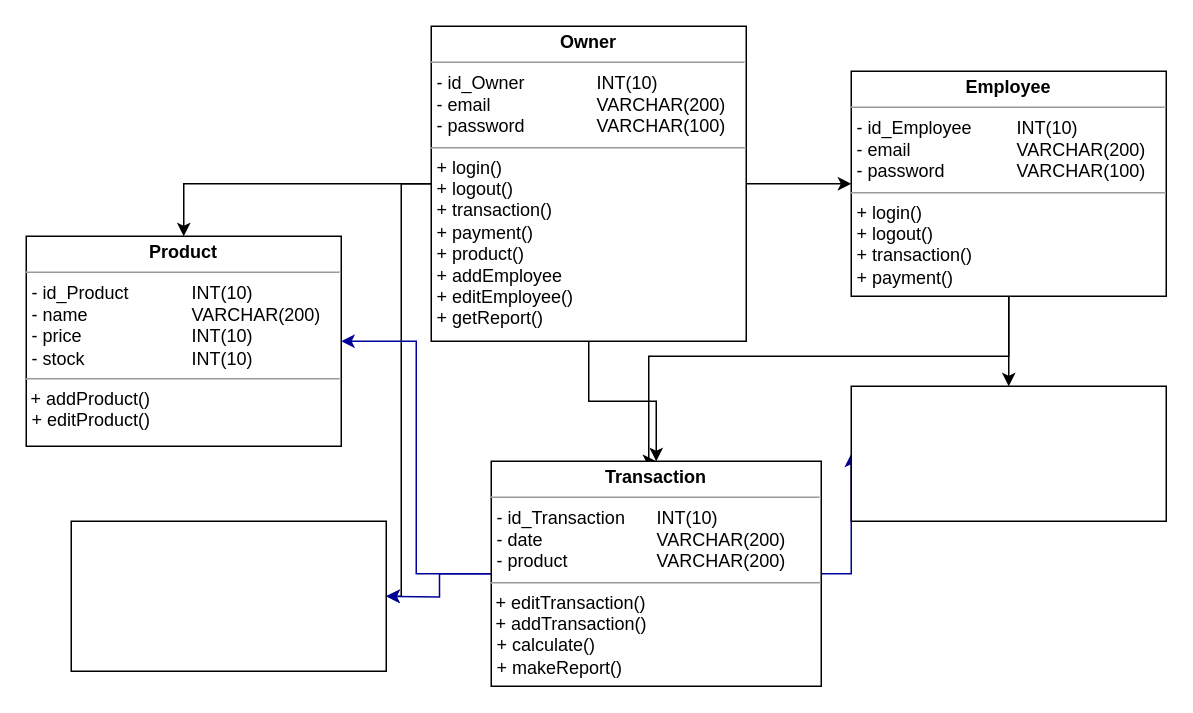
The diagram is 1193 pixels wide and 713 high, and some of its shapes have lost their labels. Each missing label, with the centre of its shape:
"Payment - amount INT(10) - paymentMethod VARCHAR(200) + makePayment()" goes at (1008,453).
"Report - name VARCHAR(200) + getData() + analyzeData()" goes at (228,595).
